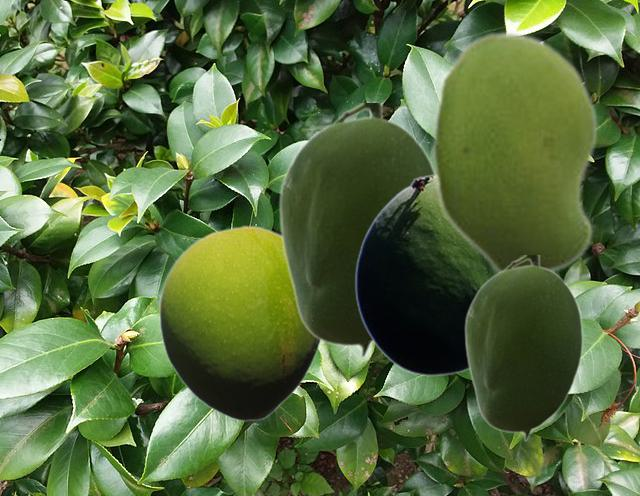green_mango: (431, 30, 598, 274), (277, 103, 431, 358), (158, 225, 321, 421), (354, 172, 493, 375), (463, 255, 582, 441)
